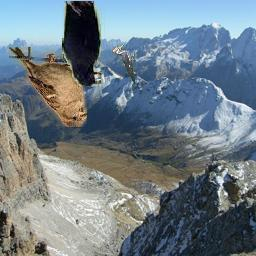Crow: (63, 2, 106, 87)
Sparrow: (9, 47, 87, 127)
Woodpecker: (113, 44, 136, 86)
